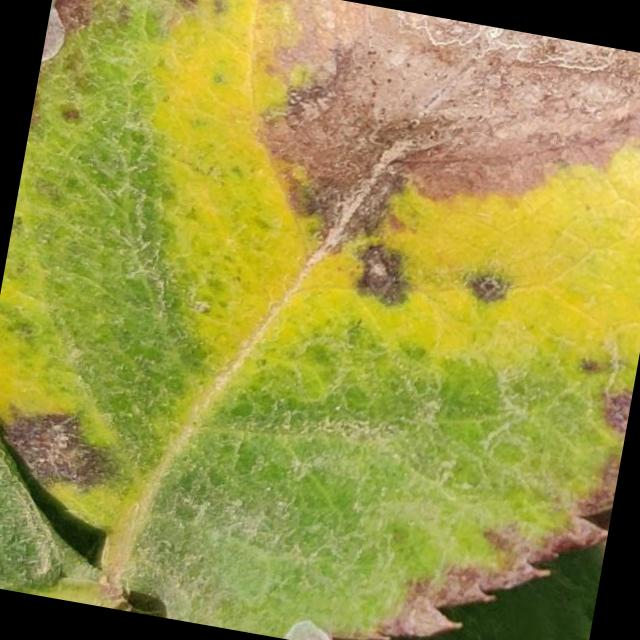Black_spot: (0, 393, 130, 500)
Rose: (0, 0, 640, 640)
